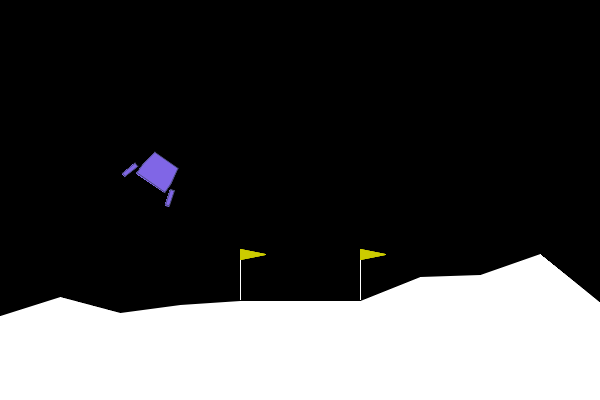lander: (120, 142, 192, 209)
